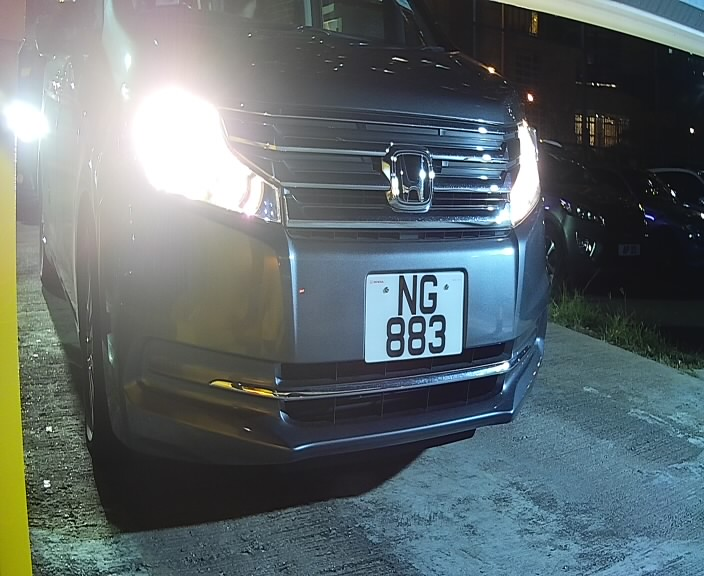Car: (20, 5, 563, 474)
License Plate: (355, 258, 482, 378)
